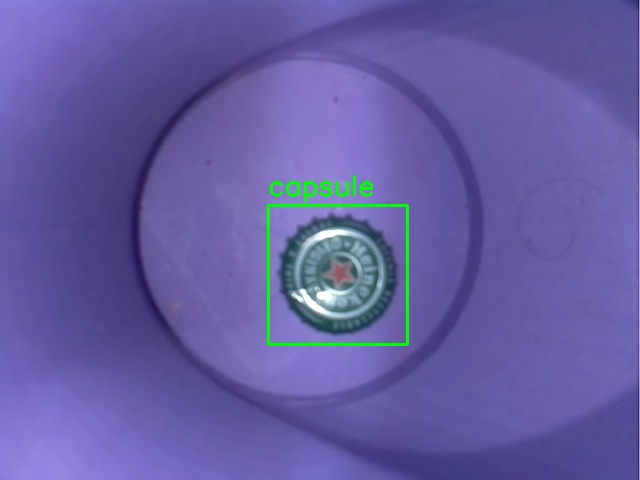capsule: (268, 205, 407, 344)
